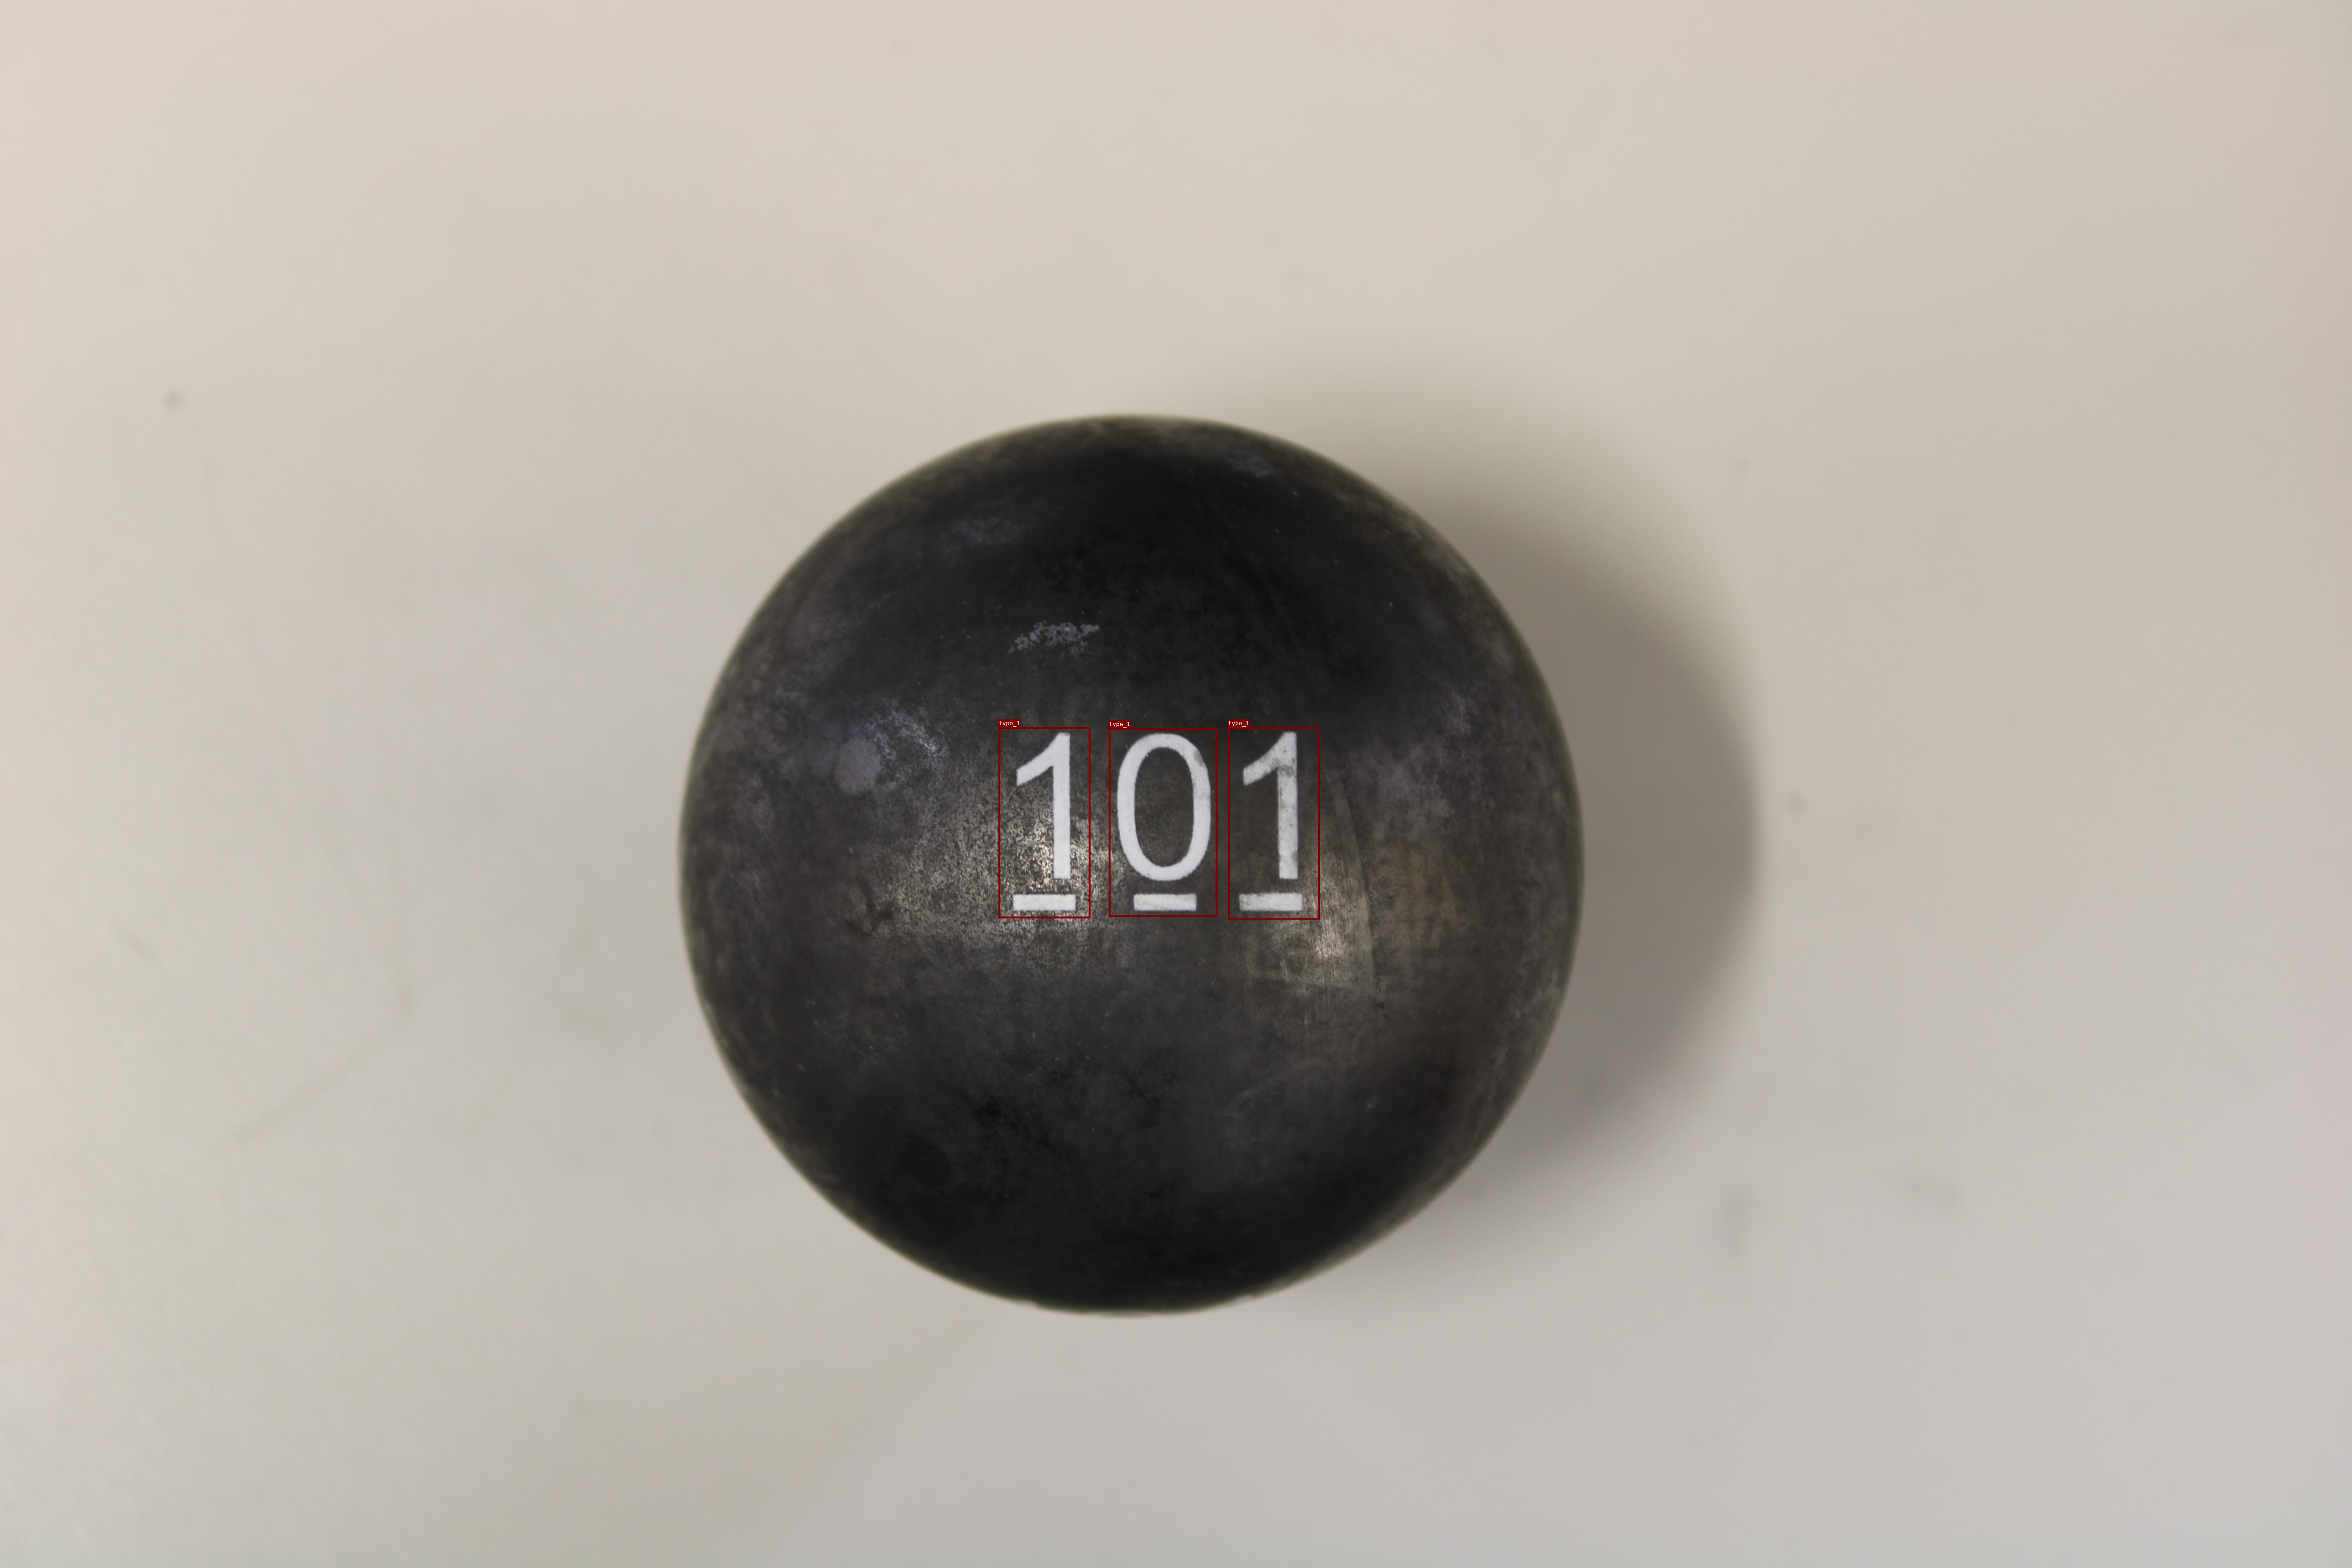type_1: (1108, 728, 1218, 917), (999, 728, 1090, 919), (1228, 728, 1319, 919)
